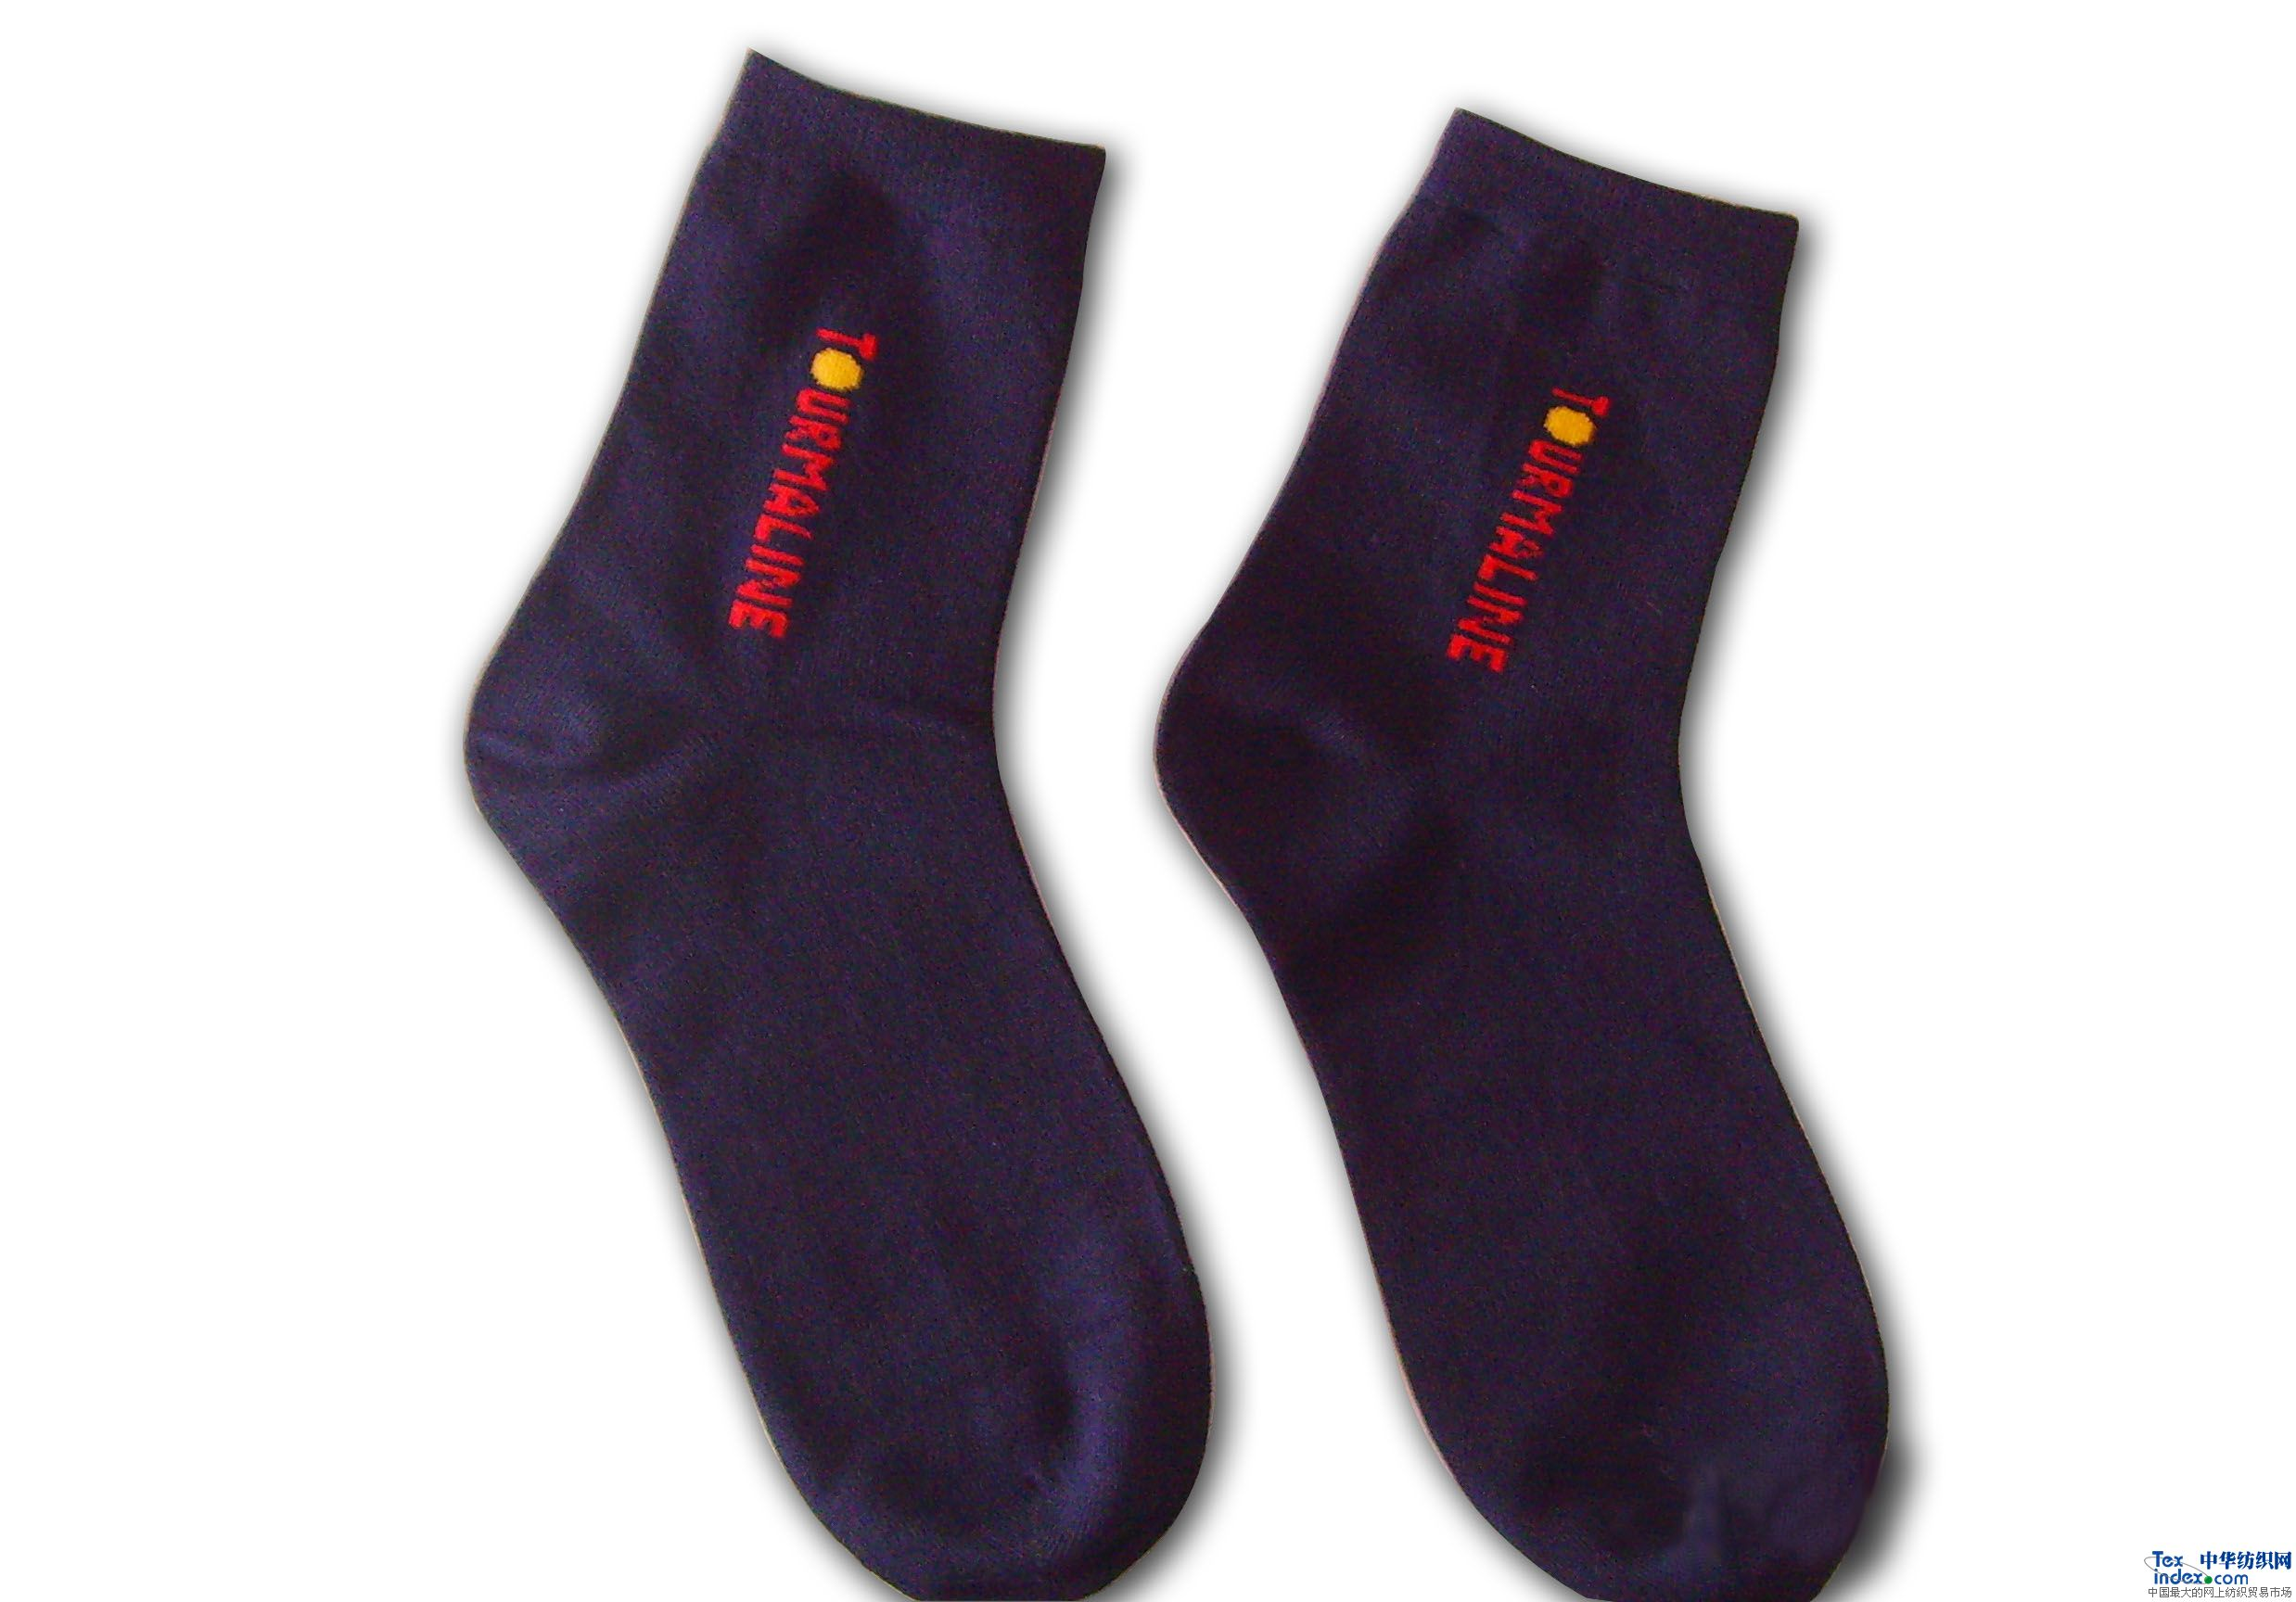flexible: (436, 51, 1895, 1602)
